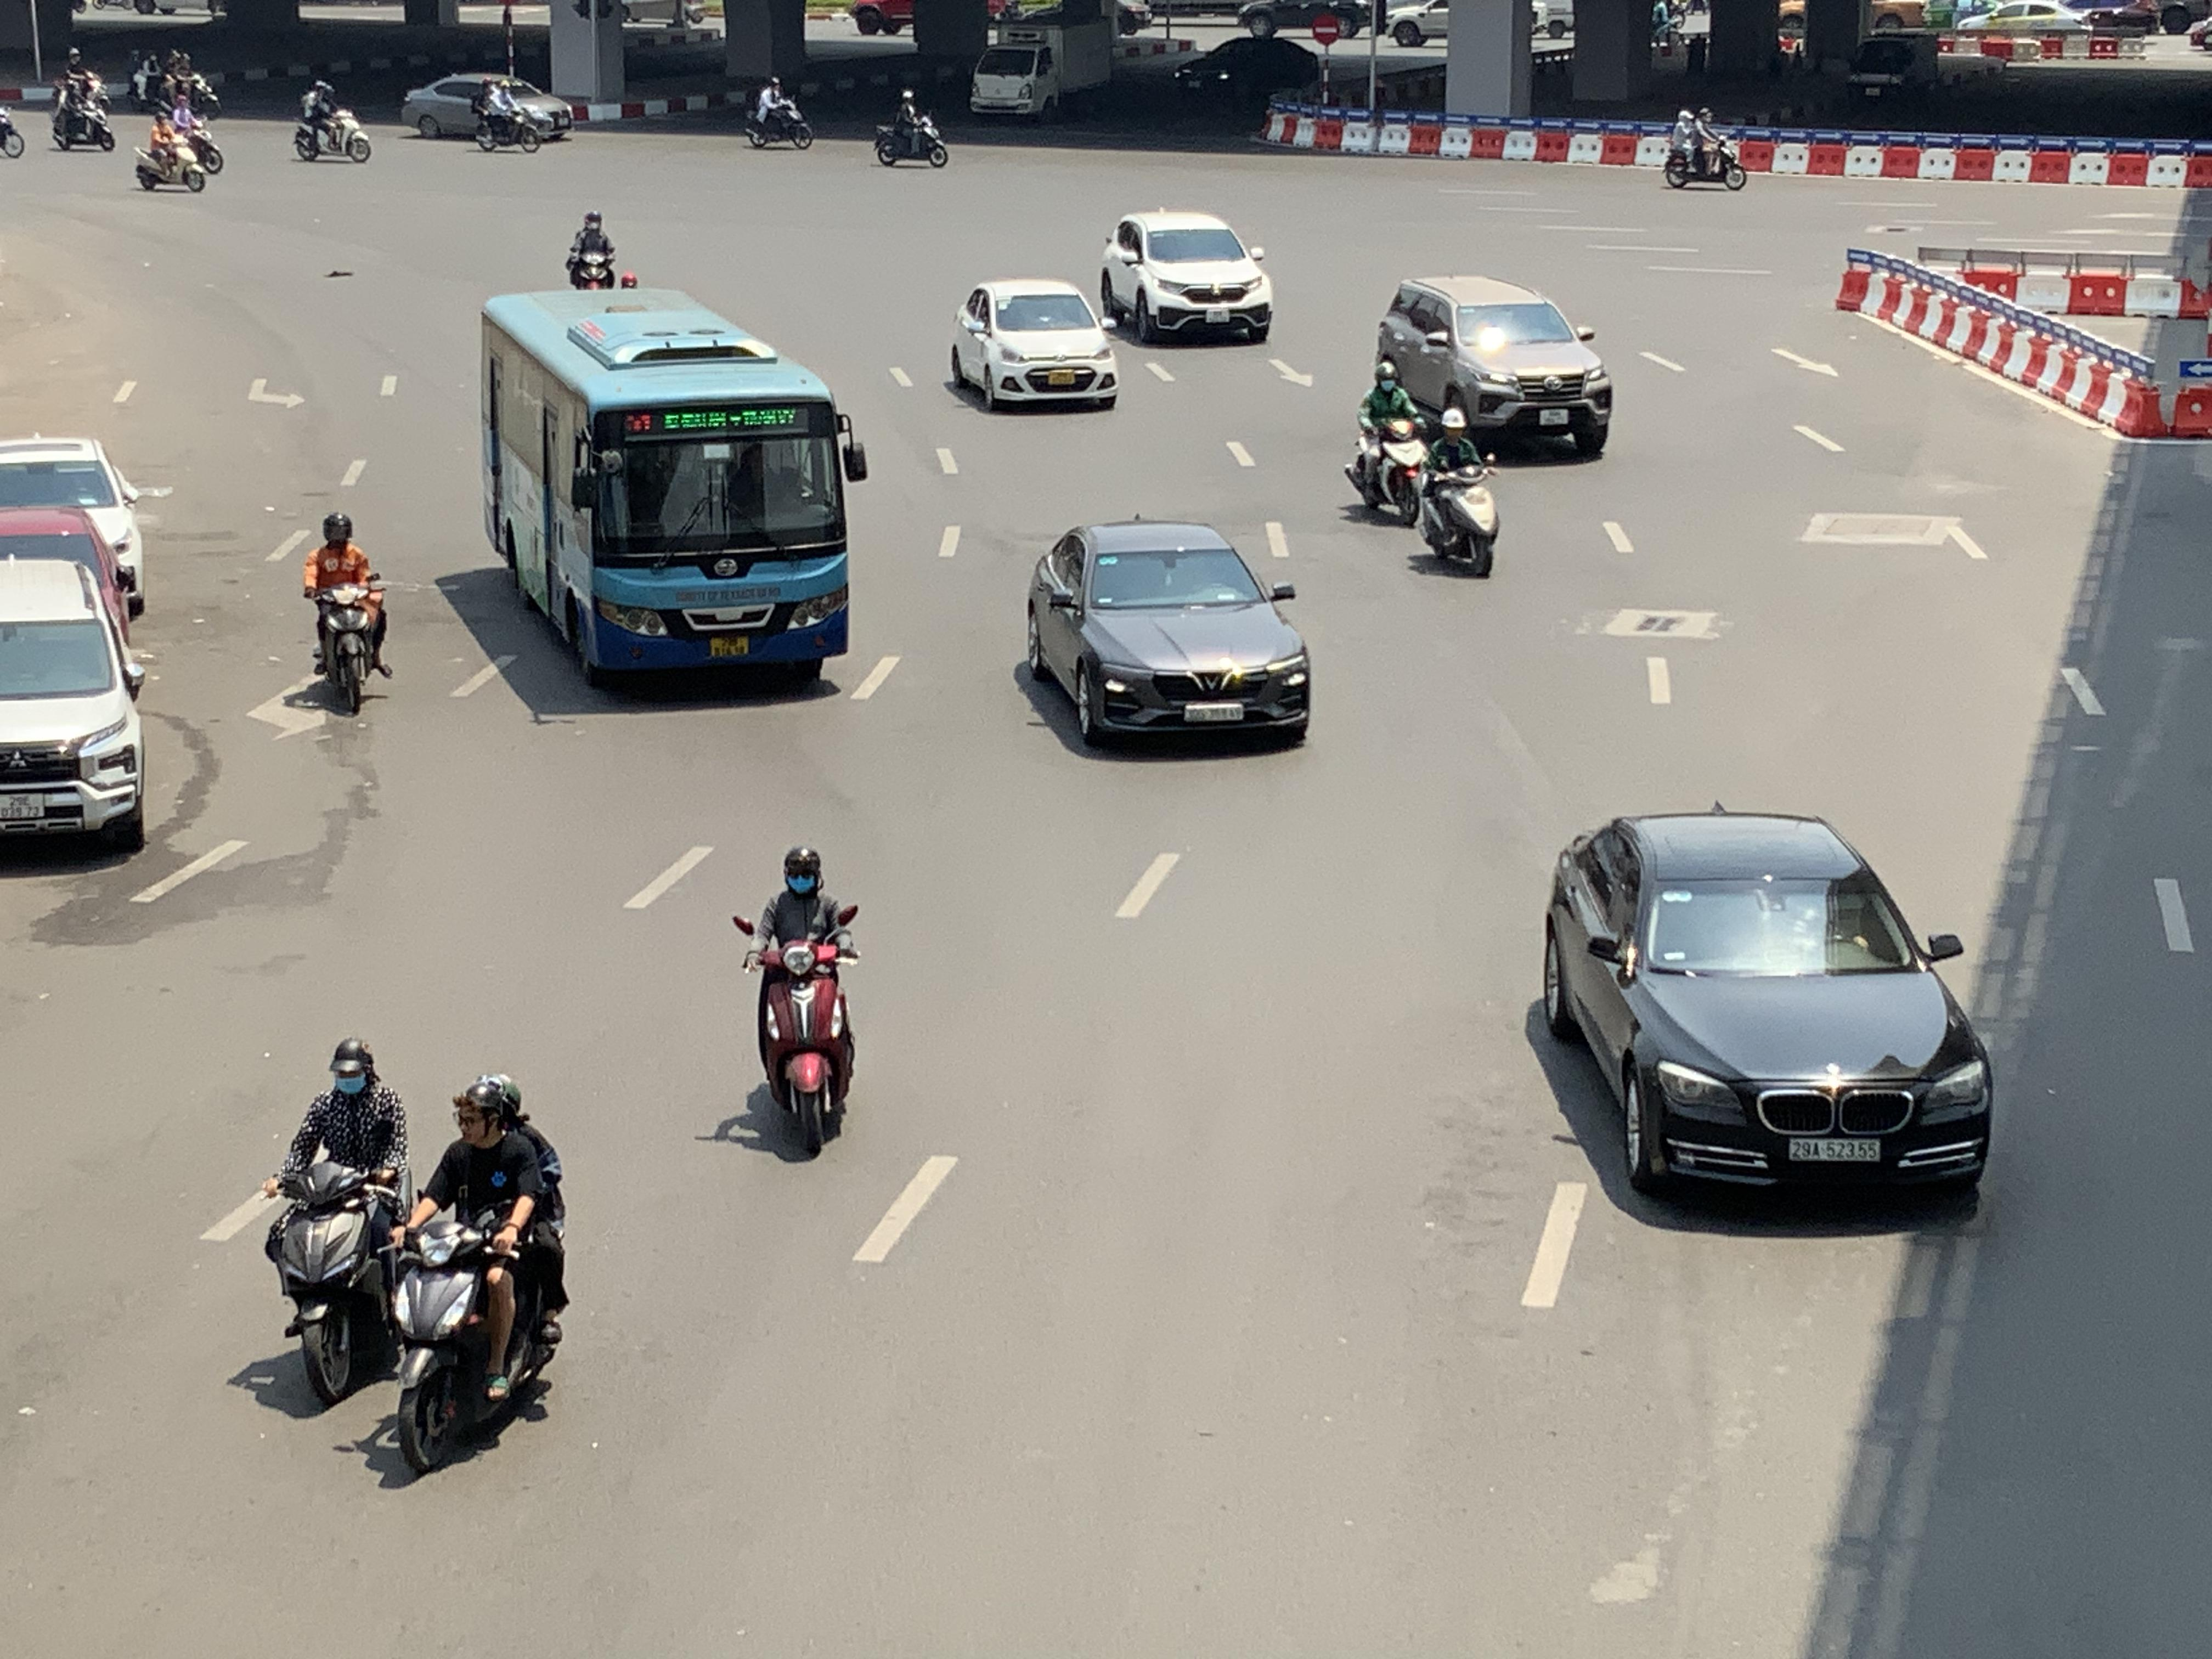BSD: (1789, 1138, 1881, 1161), (1184, 702, 1245, 721)
BSV: (0, 795, 44, 821), (709, 636, 749, 657), (1047, 369, 1076, 385)
bus: (477, 284, 867, 687)
car: (1536, 809, 1996, 1202), (1021, 519, 1313, 751), (0, 540, 152, 857), (1374, 274, 1615, 462), (0, 434, 148, 617), (1099, 209, 1273, 345), (948, 279, 1118, 413), (401, 70, 577, 141)
motorbike: (373, 1070, 568, 1480), (261, 1037, 411, 1412), (735, 842, 860, 1161), (303, 512, 388, 714), (1345, 359, 1432, 526), (1416, 406, 1500, 579), (1662, 108, 1747, 190), (293, 75, 369, 162), (134, 103, 207, 192), (47, 54, 113, 152), (873, 87, 949, 167), (744, 71, 813, 150), (474, 73, 540, 152), (564, 211, 627, 291), (0, 64, 24, 160)
